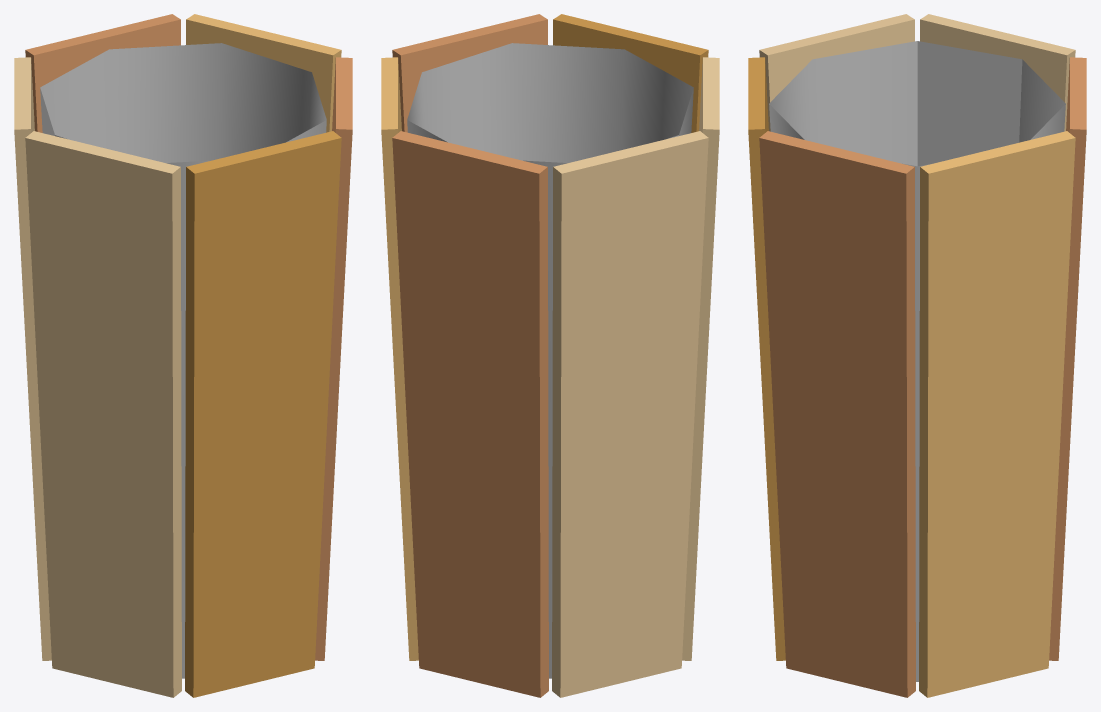
The model's file is street_props_outside_urn_1.fbx.
3 renders of one model, left to right at view 1: azimuth 30°, elevation 25°; view 2: azimuth 150°, elevation 25°; view 3: azimuth 270°, elevation 25°, orthographic.
Parts seen in each view (by area): view 1: urn_1; view 2: urn_1; view 3: urn_1.
Boxes of the visible parts, x1,y1,x2,y2 form: urn_1: (14,14,352,697); urn_1: (381,14,719,697); urn_1: (748,14,1086,697).
Bounding box in the file's own units: 30.62 × 48.14 × 27.42.
